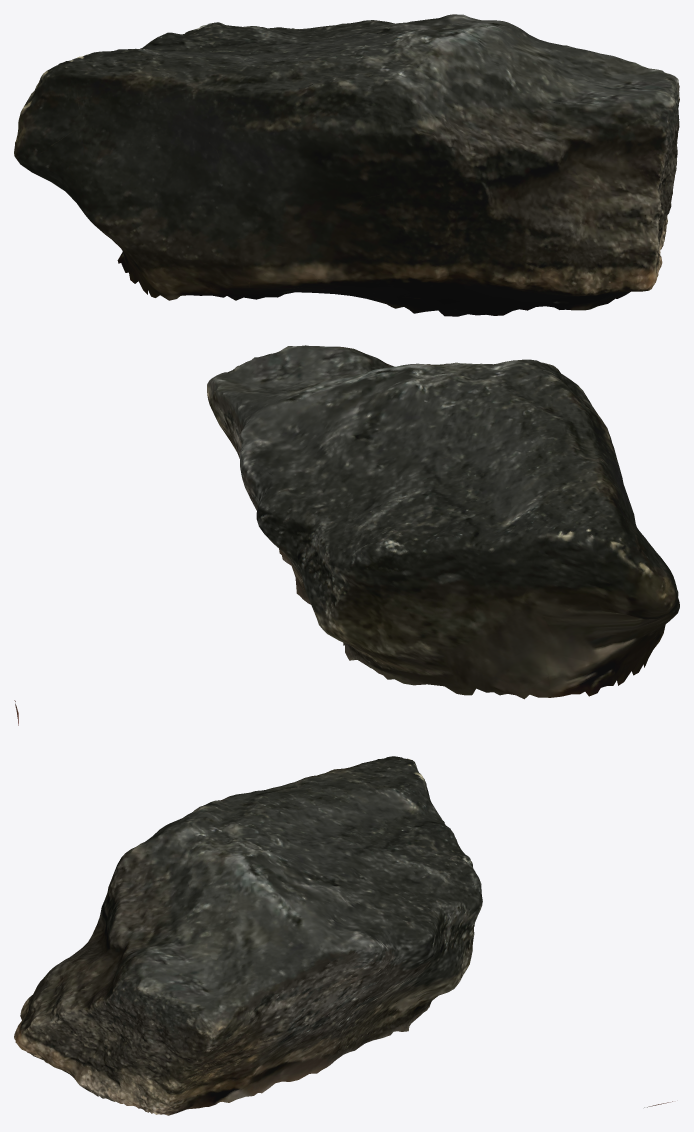
The model's file is Untitled_Scan_19_04_23.gltf.
3 views of the same model, one above another, from view 1: azimuth 30°, elevation 25°; view 2: azimuth 150°, elevation 25°; view 3: azimuth 270°, elevation 25° (orthographic). The views are drawn at different scales.
Bounding box in the file's own units: 0.2055 × 0.0767 × 0.2416.
Materials: 1 (1 with a texture image).
